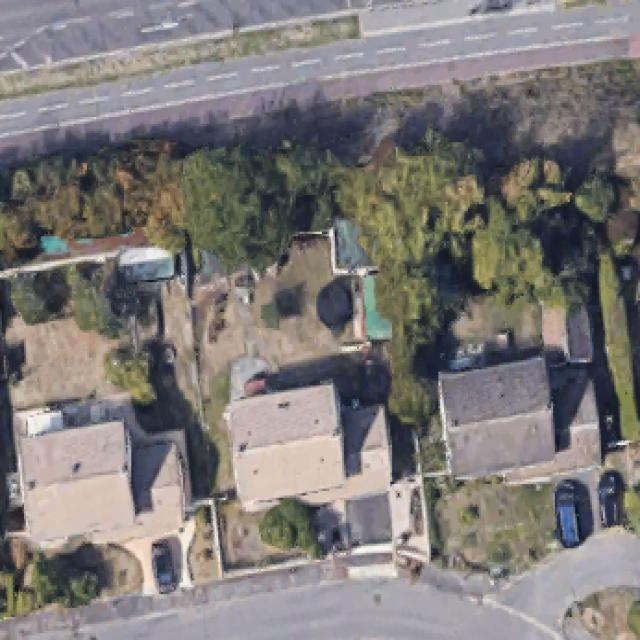maison: (13, 412, 190, 550), (436, 351, 601, 494), (225, 378, 392, 510)
